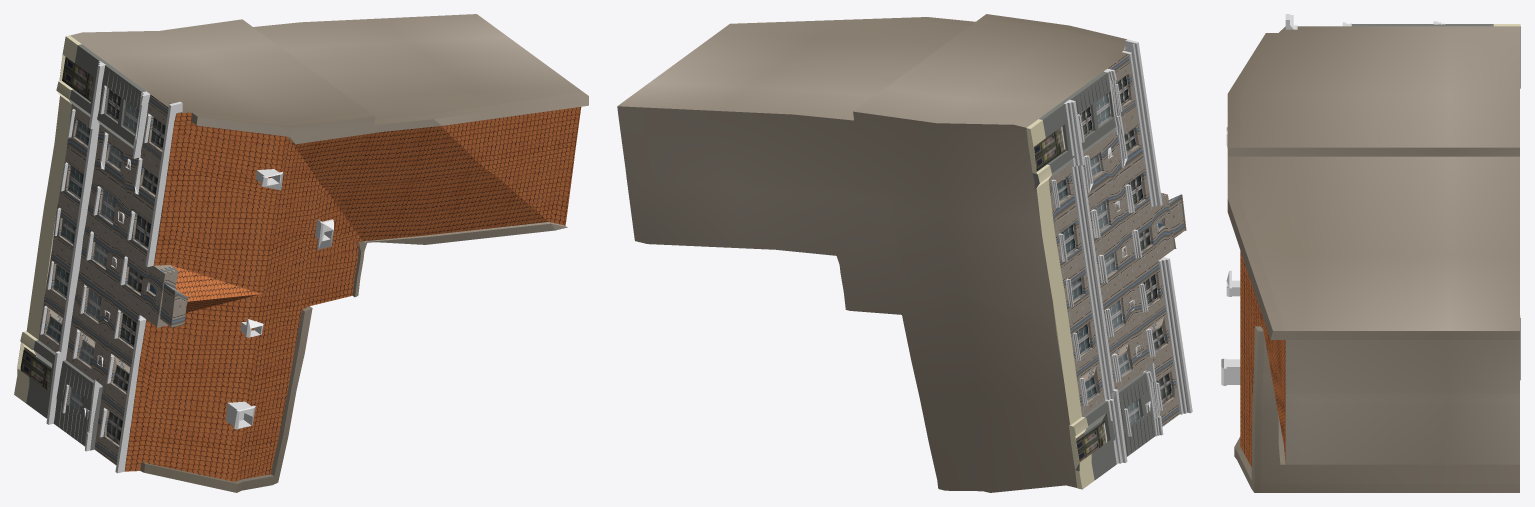
The model's file is VanaViru4-origo.obj.
The picture shows the model from 3 angles, left to right: view 1: azimuth 30°, elevation 25°; view 2: azimuth 150°, elevation 25°; view 3: azimuth 270°, elevation 25°; orthographic projection. The views are drawn at different scales.
Visible parts, largest first — view 1: Line16; view 2: Line16; view 3: Line16.
Part boxes in pixels (<box>): Line16: <box>14,14,588,492</box>; Line16: <box>617,14,1192,492</box>; Line16: <box>1221,14,1520,492</box>.
Size of the model in its own units: 28.31 by 22.5 by 14.22.
